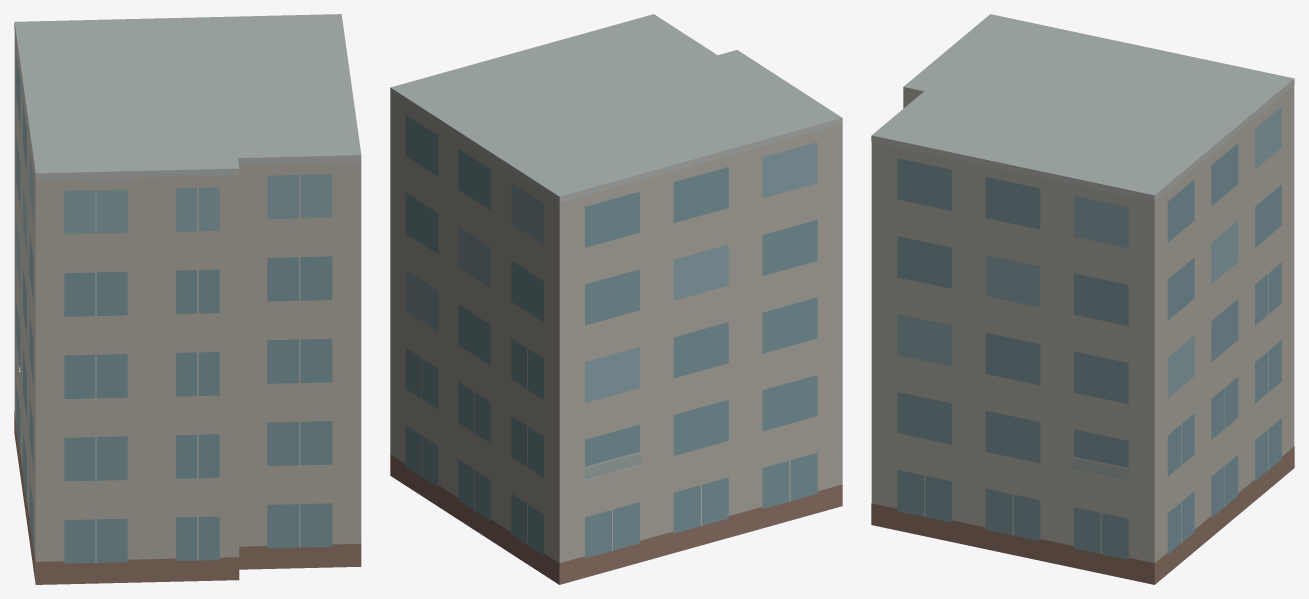
Rendered from survey-upis-32924438.glb.
3 views of the same model, side by side, from view 1: azimuth 30°, elevation 25°; view 2: azimuth 150°, elevation 25°; view 3: azimuth 270°, elevation 25° (orthographic). The views are drawn at different scales.
Parts seen in each view (by area): view 1: survey-upis-32924438.tmp; view 2: survey-upis-32924438.tmp; view 3: survey-upis-32924438.tmp.
Part boxes in pixels (left/top/right/bottom): survey-upis-32924438.tmp: left=14, top=14, right=361, bottom=584; survey-upis-32924438.tmp: left=390, top=14, right=842, bottom=584; survey-upis-32924438.tmp: left=871, top=14, right=1294, bottom=584.
Bounding box in the file's own units: 14.99 × 15 × 14.77.
